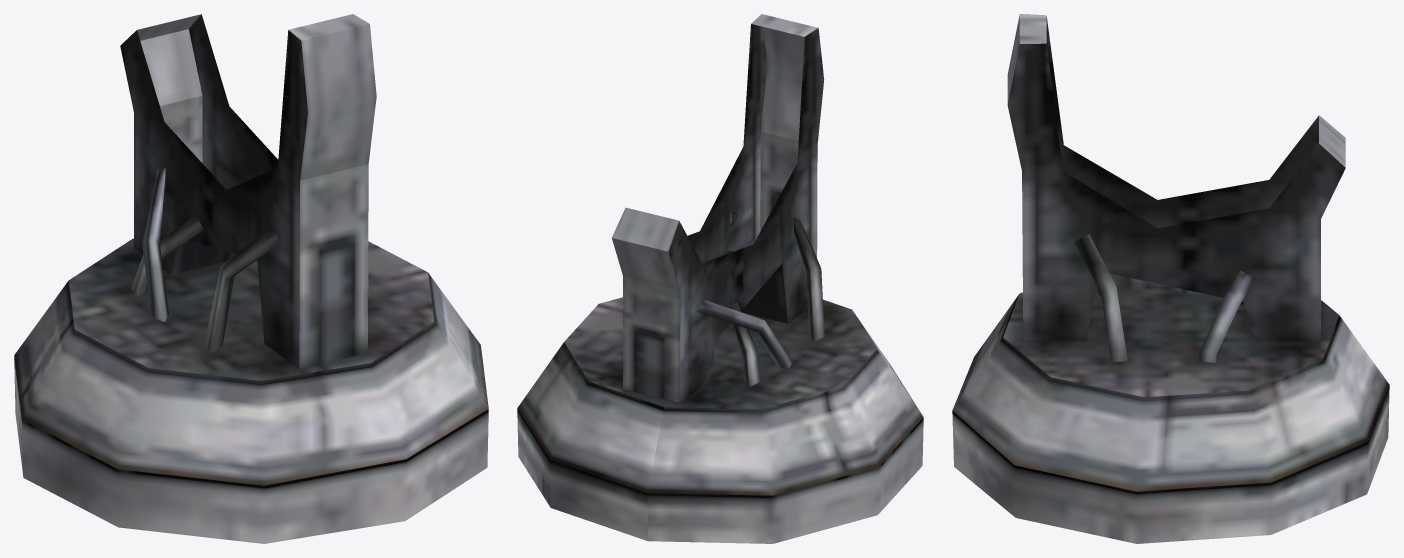
The model's file is spacestation_turret_base_s01_l2.fbx.
The picture shows the model from 3 angles, left to right: view 1: azimuth 30°, elevation 25°; view 2: azimuth 150°, elevation 25°; view 3: azimuth 270°, elevation 25°; orthographic projection. The views are drawn at different scales.
Parts seen in each view (by area): view 1: mesh_node; view 2: mesh_node; view 3: mesh_node.
Part boxes in pixels (bbox=[...]): mesh_node: bbox=[14, 14, 488, 543]; mesh_node: bbox=[517, 14, 923, 543]; mesh_node: bbox=[952, 14, 1389, 543].
Size of the model in its own units: 6.76 by 7.23 by 6.77.
